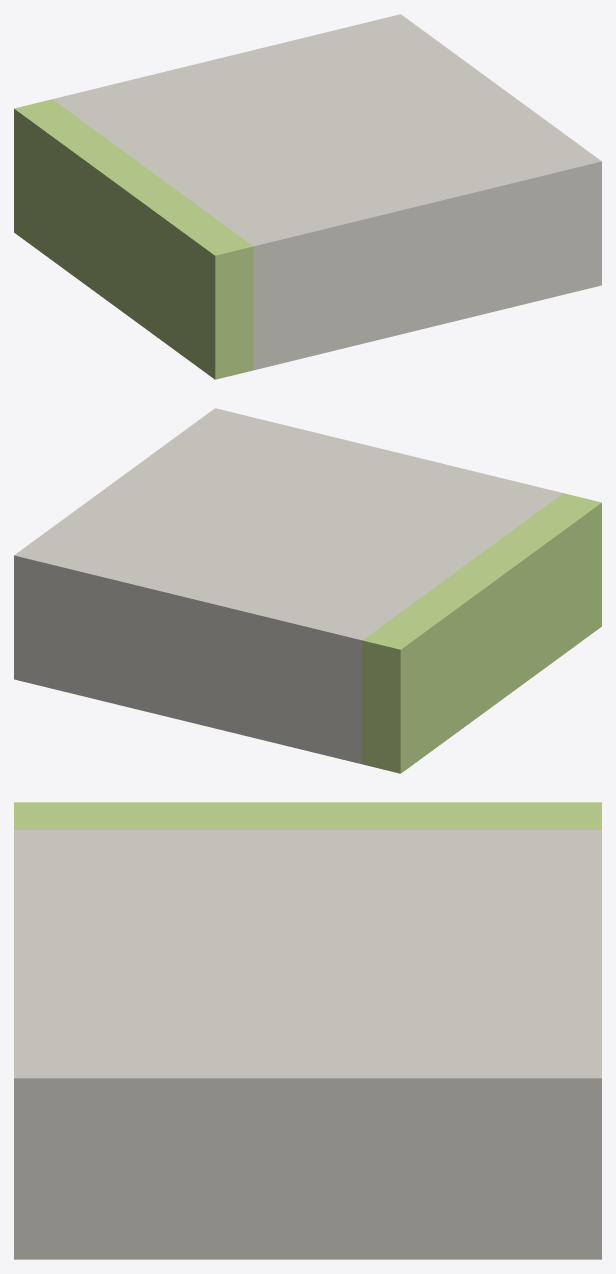
File: Building Roof 20.fbx
3 renders of one model, top to bottom at view 1: azimuth 30°, elevation 25°; view 2: azimuth 150°, elevation 25°; view 3: azimuth 270°, elevation 25°, orthographic. The views are drawn at different scales.
Visible parts, largest first — view 1: Building Roof 20; view 2: Building Roof 20; view 3: Building Roof 20.
Part boxes in pixels (x1,y1,x2,y2): Building Roof 20: (14,14,601,379); Building Roof 20: (14,408,601,773); Building Roof 20: (14,802,601,1259).
Size of the model in its own units: 1.11 by 0.34 by 1.
